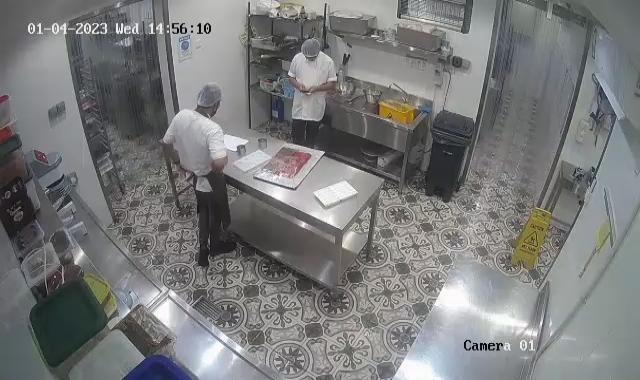hairnet: (197, 82, 223, 110), (300, 35, 320, 62)
